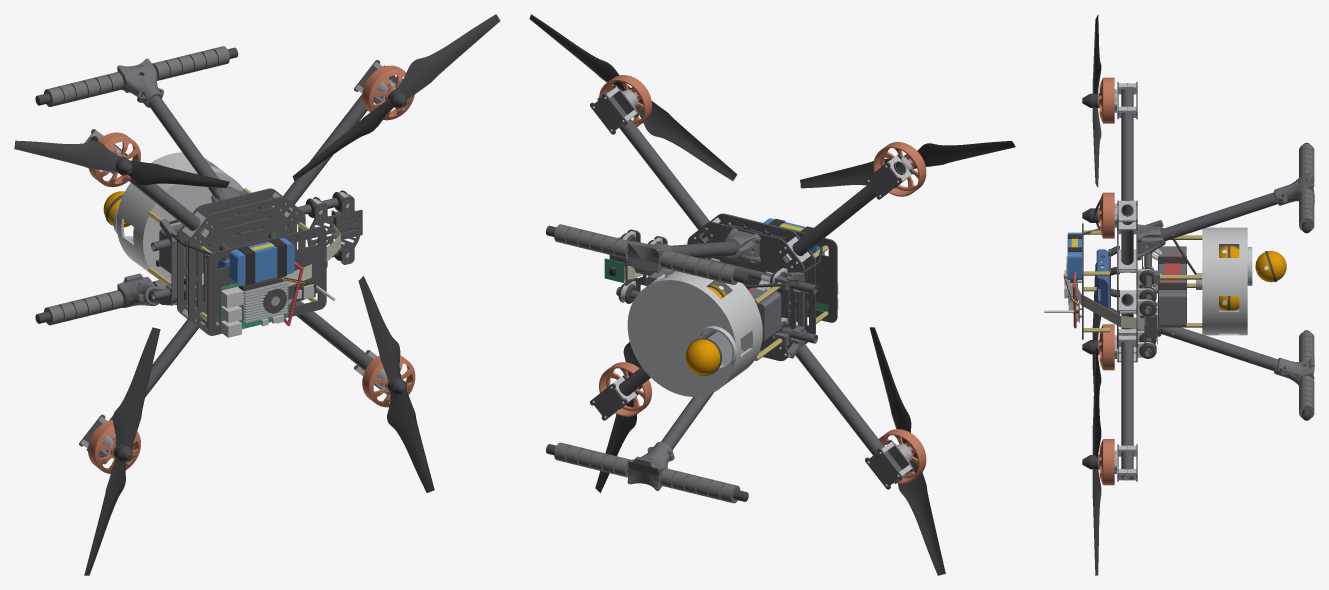
The model's file is drone_concept_assembly.glb.
The picture shows the model from 3 angles, left to right: view 1: azimuth 30°, elevation 25°; view 2: azimuth 150°, elevation 25°; view 3: azimuth 270°, elevation 25°; orthographic projection. The views are drawn at different scales.
Parts seen in each view (by area): view 1: airframe_x500_CarbonFiber_2, airframe_x500_LandingFoam_0, props_prop_3_20, props_prop_2_17, props_prop_0_11, props_prop_1_14, topdeck_deck_plate_21, airframe_x500_LandingPlastic_7, dispenser_mag_wall_80, dispenser_mag_top_plate_79, topdeck_battery_pack_61, airframe_motor_bell_2_16 (+5 smaller); view 2: airframe_x500_CarbonFiber_2, dispenser_mag_floor_81, airframe_x500_LandingFoam_0, airframe_x500_LandingPlastic_7, props_prop_2_17, props_prop_3_20, dispenser_mag_wall_80, props_prop_1_14, topdeck_deck_plate_21, airframe_x500_Metal_3, airframe_motor_bell_1_13, props_prop_0_11 (+6 smaller); view 3: airframe_x500_CarbonFiber_2, dispenser_mag_wall_80, airframe_x500_Metal_3, airframe_x500_LandingPlastic_7, airframe_x500_LandingFoam_0, props_prop_0_11, underside_flight_lipo_69, props_prop_1_14, underside_cam_ribbon_78, airframe_x500_RailsRubber_4, airframe_x500_FMUK66_5, airframe_motor_bell_0_10 (+6 smaller).
Part boxes in pixels (box(x1,y1,x2,y2)): airframe_x500_CarbonFiber_2: box(79, 60, 402, 464); airframe_x500_LandingFoam_0: box(44, 46, 229, 325); props_prop_3_20: box(84, 327, 160, 575); props_prop_2_17: box(292, 14, 500, 180); props_prop_0_11: box(358, 276, 434, 492); props_prop_1_14: box(14, 140, 229, 188); topdeck_deck_plate_21: box(207, 226, 326, 335); airframe_x500_LandingPlastic_7: box(117, 58, 246, 307); dispenser_mag_wall_80: box(118, 153, 230, 276); dispenser_mag_top_plate_79: box(141, 171, 243, 281); topdeck_battery_pack_61: box(229, 238, 294, 285); airframe_motor_bell_2_16: box(362, 65, 414, 120); airframe_x500_CarbonFiber_2: box(590, 85, 913, 489); dispenser_mag_floor_81: box(627, 279, 737, 396); airframe_x500_LandingFoam_0: box(554, 224, 740, 503); airframe_x500_LandingPlastic_7: box(627, 228, 760, 490); props_prop_2_17: box(529, 14, 737, 180); props_prop_3_20: box(869, 327, 945, 575); dispenser_mag_wall_80: box(649, 269, 761, 385); props_prop_1_14: box(800, 141, 1015, 188); topdeck_deck_plate_21: box(724, 213, 837, 322); airframe_x500_Metal_3: box(593, 87, 912, 485); airframe_motor_bell_1_13: box(873, 142, 926, 196); props_prop_0_11: box(595, 342, 642, 492); airframe_x500_CarbonFiber_2: box(1110, 82, 1277, 481); dispenser_mag_wall_80: box(1204, 227, 1245, 335); airframe_x500_Metal_3: box(1118, 83, 1161, 480); airframe_x500_LandingPlastic_7: box(1137, 172, 1314, 385); airframe_x500_LandingFoam_0: box(1299, 144, 1314, 418); props_prop_0_11: box(1082, 348, 1101, 575); underside_flight_lipo_69: box(1158, 246, 1186, 326); props_prop_1_14: box(1082, 14, 1101, 186); underside_cam_ribbon_78: box(1075, 284, 1156, 332); airframe_x500_RailsRubber_4: box(1139, 267, 1156, 358); airframe_x500_FMUK66_5: box(1096, 249, 1109, 309); airframe_motor_bell_0_10: box(1098, 439, 1114, 485).
Size of the model in its own units: 617 by 561 by 346.
